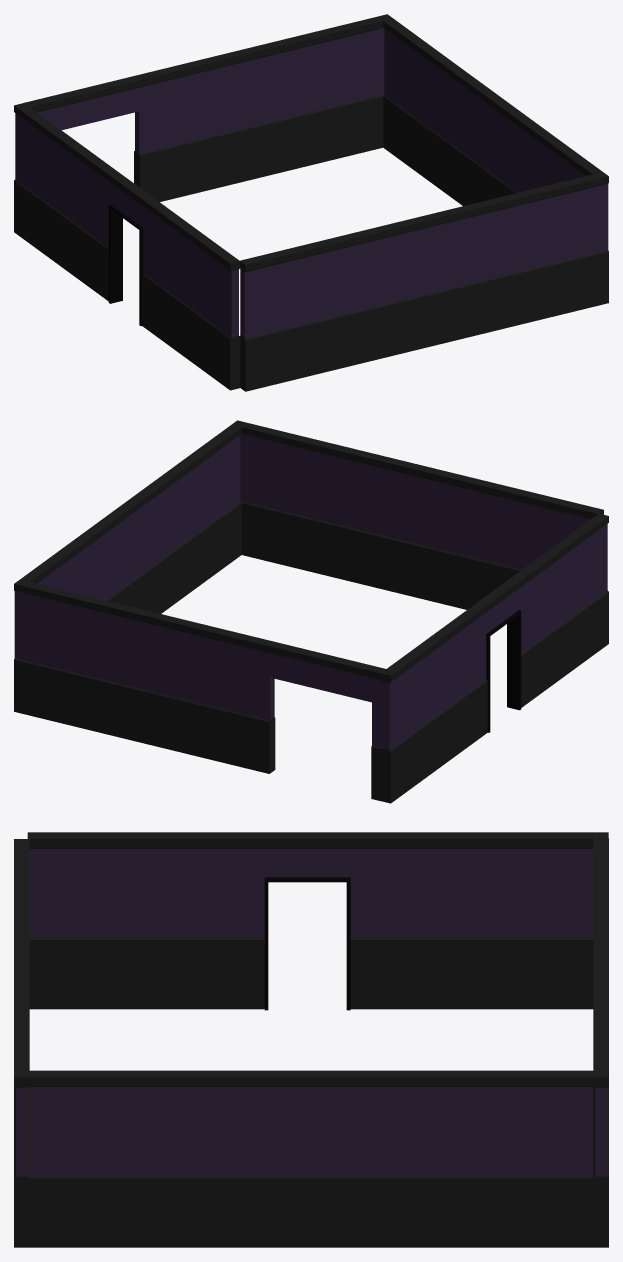
The model's file is Bedroom 1.fbx.
The picture shows the model from 3 angles, top to bottom: view 1: azimuth 30°, elevation 25°; view 2: azimuth 150°, elevation 25°; view 3: azimuth 270°, elevation 25°; orthographic projection. The views are drawn at different scales.
Parts seen in each view (by area): view 1: Classic_Wall_snaps001 (36), Classic_Wall_snaps001 (42), Classic_Wall_snaps001 (45), Classic_Wall_snaps001 (37), Classic_Wall_snaps001 (46), Classic_Wall_snaps001 (35), Classic_Wall_snaps001 (43), Classic_Wall_snaps001 (40), Classic_WallDoorFrame_02_snaps001 (1), Classic_Wall_snaps001 (39), WallDoor, Classic_Wall_snaps001 (38); view 2: Classic_Wall_snaps001 (42), Classic_Wall_snaps001 (46), Classic_Wall_snaps001 (37), Classic_Wall_snaps001 (45), Classic_Wall_snaps001 (43), Classic_Wall_snaps001 (38), Classic_Wall_snaps001 (35), Classic_WallDoorFrame_02_snaps001 (1), Classic_Wall_snaps001 (36), Classic_Wall_snaps001 (39), WallDoor, Classic_Wall_snaps001 (40); view 3: Classic_Wall_snaps001 (43), Classic_Wall_snaps001 (38), Classic_Wall_snaps001 (40), Classic_Wall_snaps001 (39), Classic_Wall_snaps001 (35), Classic_WallDoorFrame_02_snaps001 (1), Classic_Wall_snaps001 (46), Classic_Wall_snaps001 (45), Classic_Wall_snaps001 (37), Classic_Wall_snaps001 (42), WallDoor, Classic_Wall_snaps001 (36).
Boxes of the visible parts, box(x1,y1,x2,y2) form: Classic_Wall_snaps001 (36): box(240, 231, 366, 391); Classic_Wall_snaps001 (42): box(144, 44, 271, 201); Classic_Wall_snaps001 (45): box(482, 172, 608, 332); Classic_Wall_snaps001 (37): box(361, 201, 487, 361); Classic_Wall_snaps001 (46): box(265, 14, 392, 174); Classic_Wall_snaps001 (35): box(160, 210, 240, 390); Classic_Wall_snaps001 (43): box(14, 103, 100, 288); Classic_Wall_snaps001 (40): box(383, 18, 462, 198); Classic_WallDoorFrame_02_snaps001 (1): box(91, 159, 170, 338); Classic_Wall_snaps001 (39): box(453, 69, 532, 205); WallDoor: box(23, 73, 149, 194); Classic_Wall_snaps001 (38): box(523, 121, 602, 191); Classic_Wall_snaps001 (42): box(136, 609, 264, 771); Classic_Wall_snaps001 (46): box(14, 579, 142, 741); Classic_Wall_snaps001 (37): box(353, 450, 481, 609); Classic_Wall_snaps001 (45): box(232, 420, 358, 582); Classic_Wall_snaps001 (43): box(381, 616, 468, 803); Classic_Wall_snaps001 (38): box(161, 424, 241, 606); Classic_Wall_snaps001 (35): box(528, 513, 608, 695); Classic_WallDoorFrame_02_snaps001 (1): box(459, 565, 538, 746); Classic_Wall_snaps001 (36): box(476, 480, 603, 602); Classic_Wall_snaps001 (39): box(91, 476, 170, 613); WallDoor: box(259, 639, 386, 801); Classic_Wall_snaps001 (40): box(20, 528, 100, 598); Classic_Wall_snaps001 (43): box(401, 832, 608, 1009); Classic_Wall_snaps001 (38): box(29, 1070, 217, 1247); Classic_Wall_snaps001 (40): box(405, 1070, 593, 1247); Classic_Wall_snaps001 (39): box(217, 1070, 405, 1247); Classic_Wall_snaps001 (35): box(27, 832, 215, 1009); Classic_WallDoorFrame_02_snaps001 (1): box(213, 832, 401, 1010); Classic_Wall_snaps001 (46): box(593, 997, 608, 1247); Classic_Wall_snaps001 (45): box(14, 998, 29, 1247); Classic_Wall_snaps001 (37): box(14, 918, 29, 1098); Classic_Wall_snaps001 (42): box(593, 917, 608, 1098); WallDoor: box(593, 838, 608, 917); Classic_Wall_snaps001 (36): box(14, 839, 29, 918).
Bounding box in the file's own units: 9.28 × 3 × 9.5.
